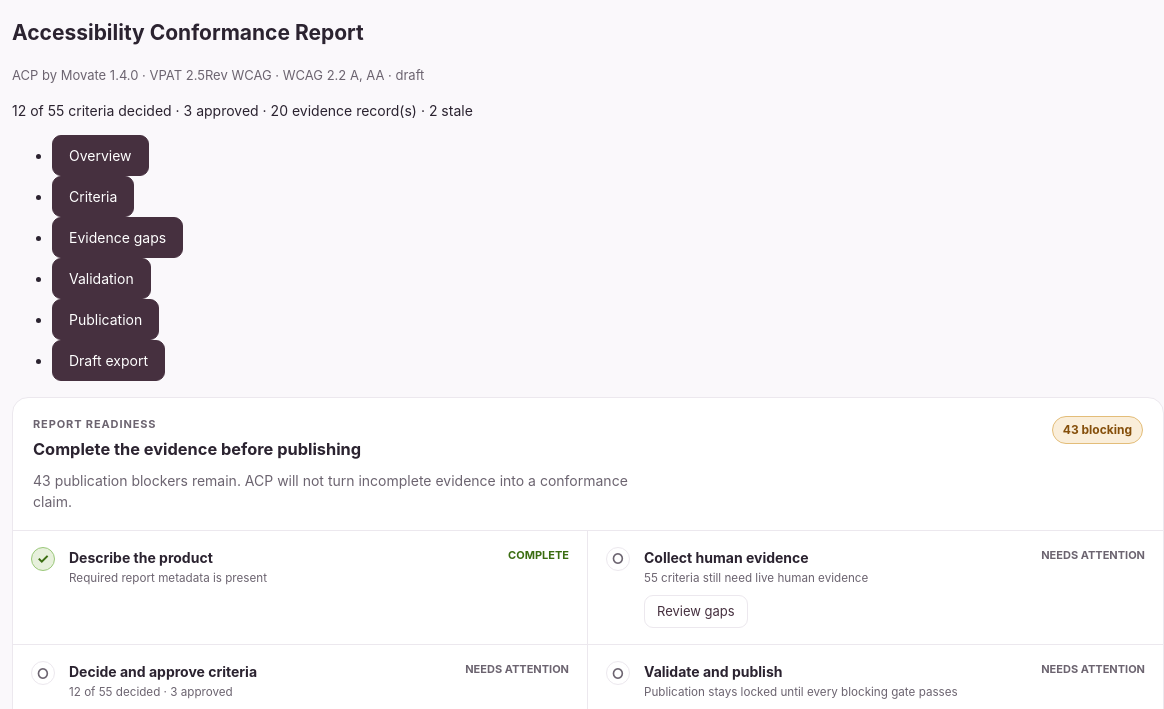
Test: validation › states whether the report may publish, and why not
This screenshot has width=1164, height=709.
Step 1. Click the button "Validation" → point(101, 278), box [52,258,151,299]
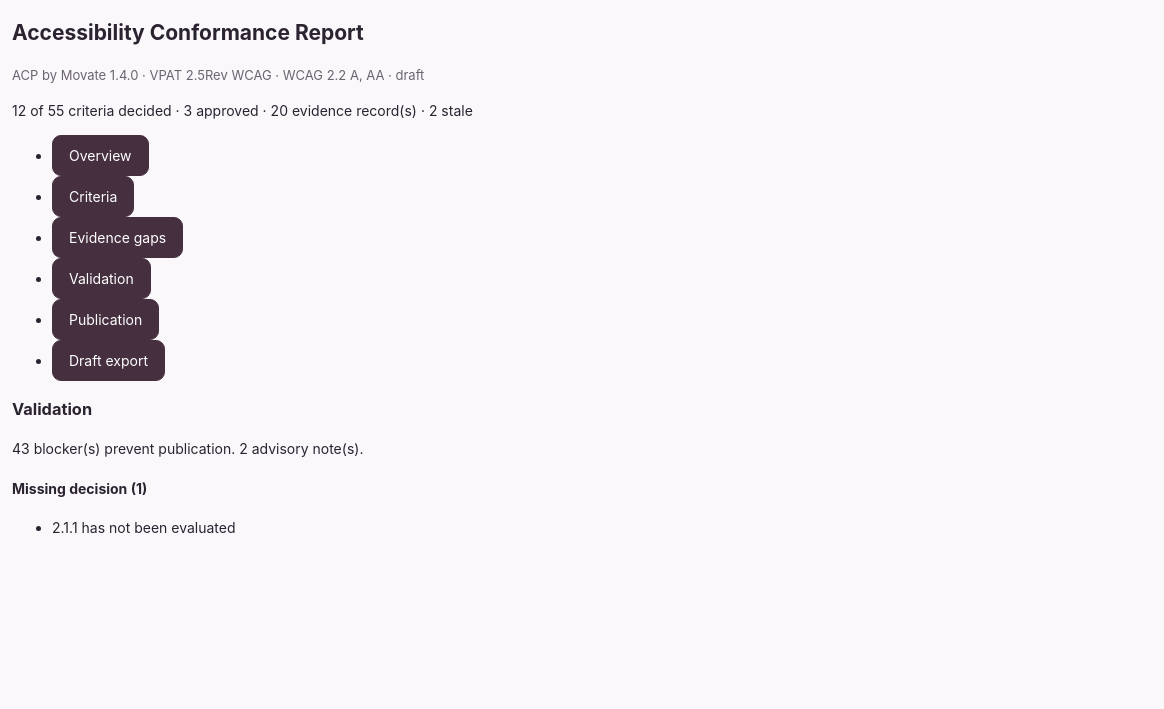
Expected: the text "43 blocker(s) prevent publication" is shown, [12,440,235,457]
Expected: the text "Missing decision" is shown, [12,480,127,497]
Expected: the text "2.1.1 has not been evaluated" is shown, [52,519,236,536]
